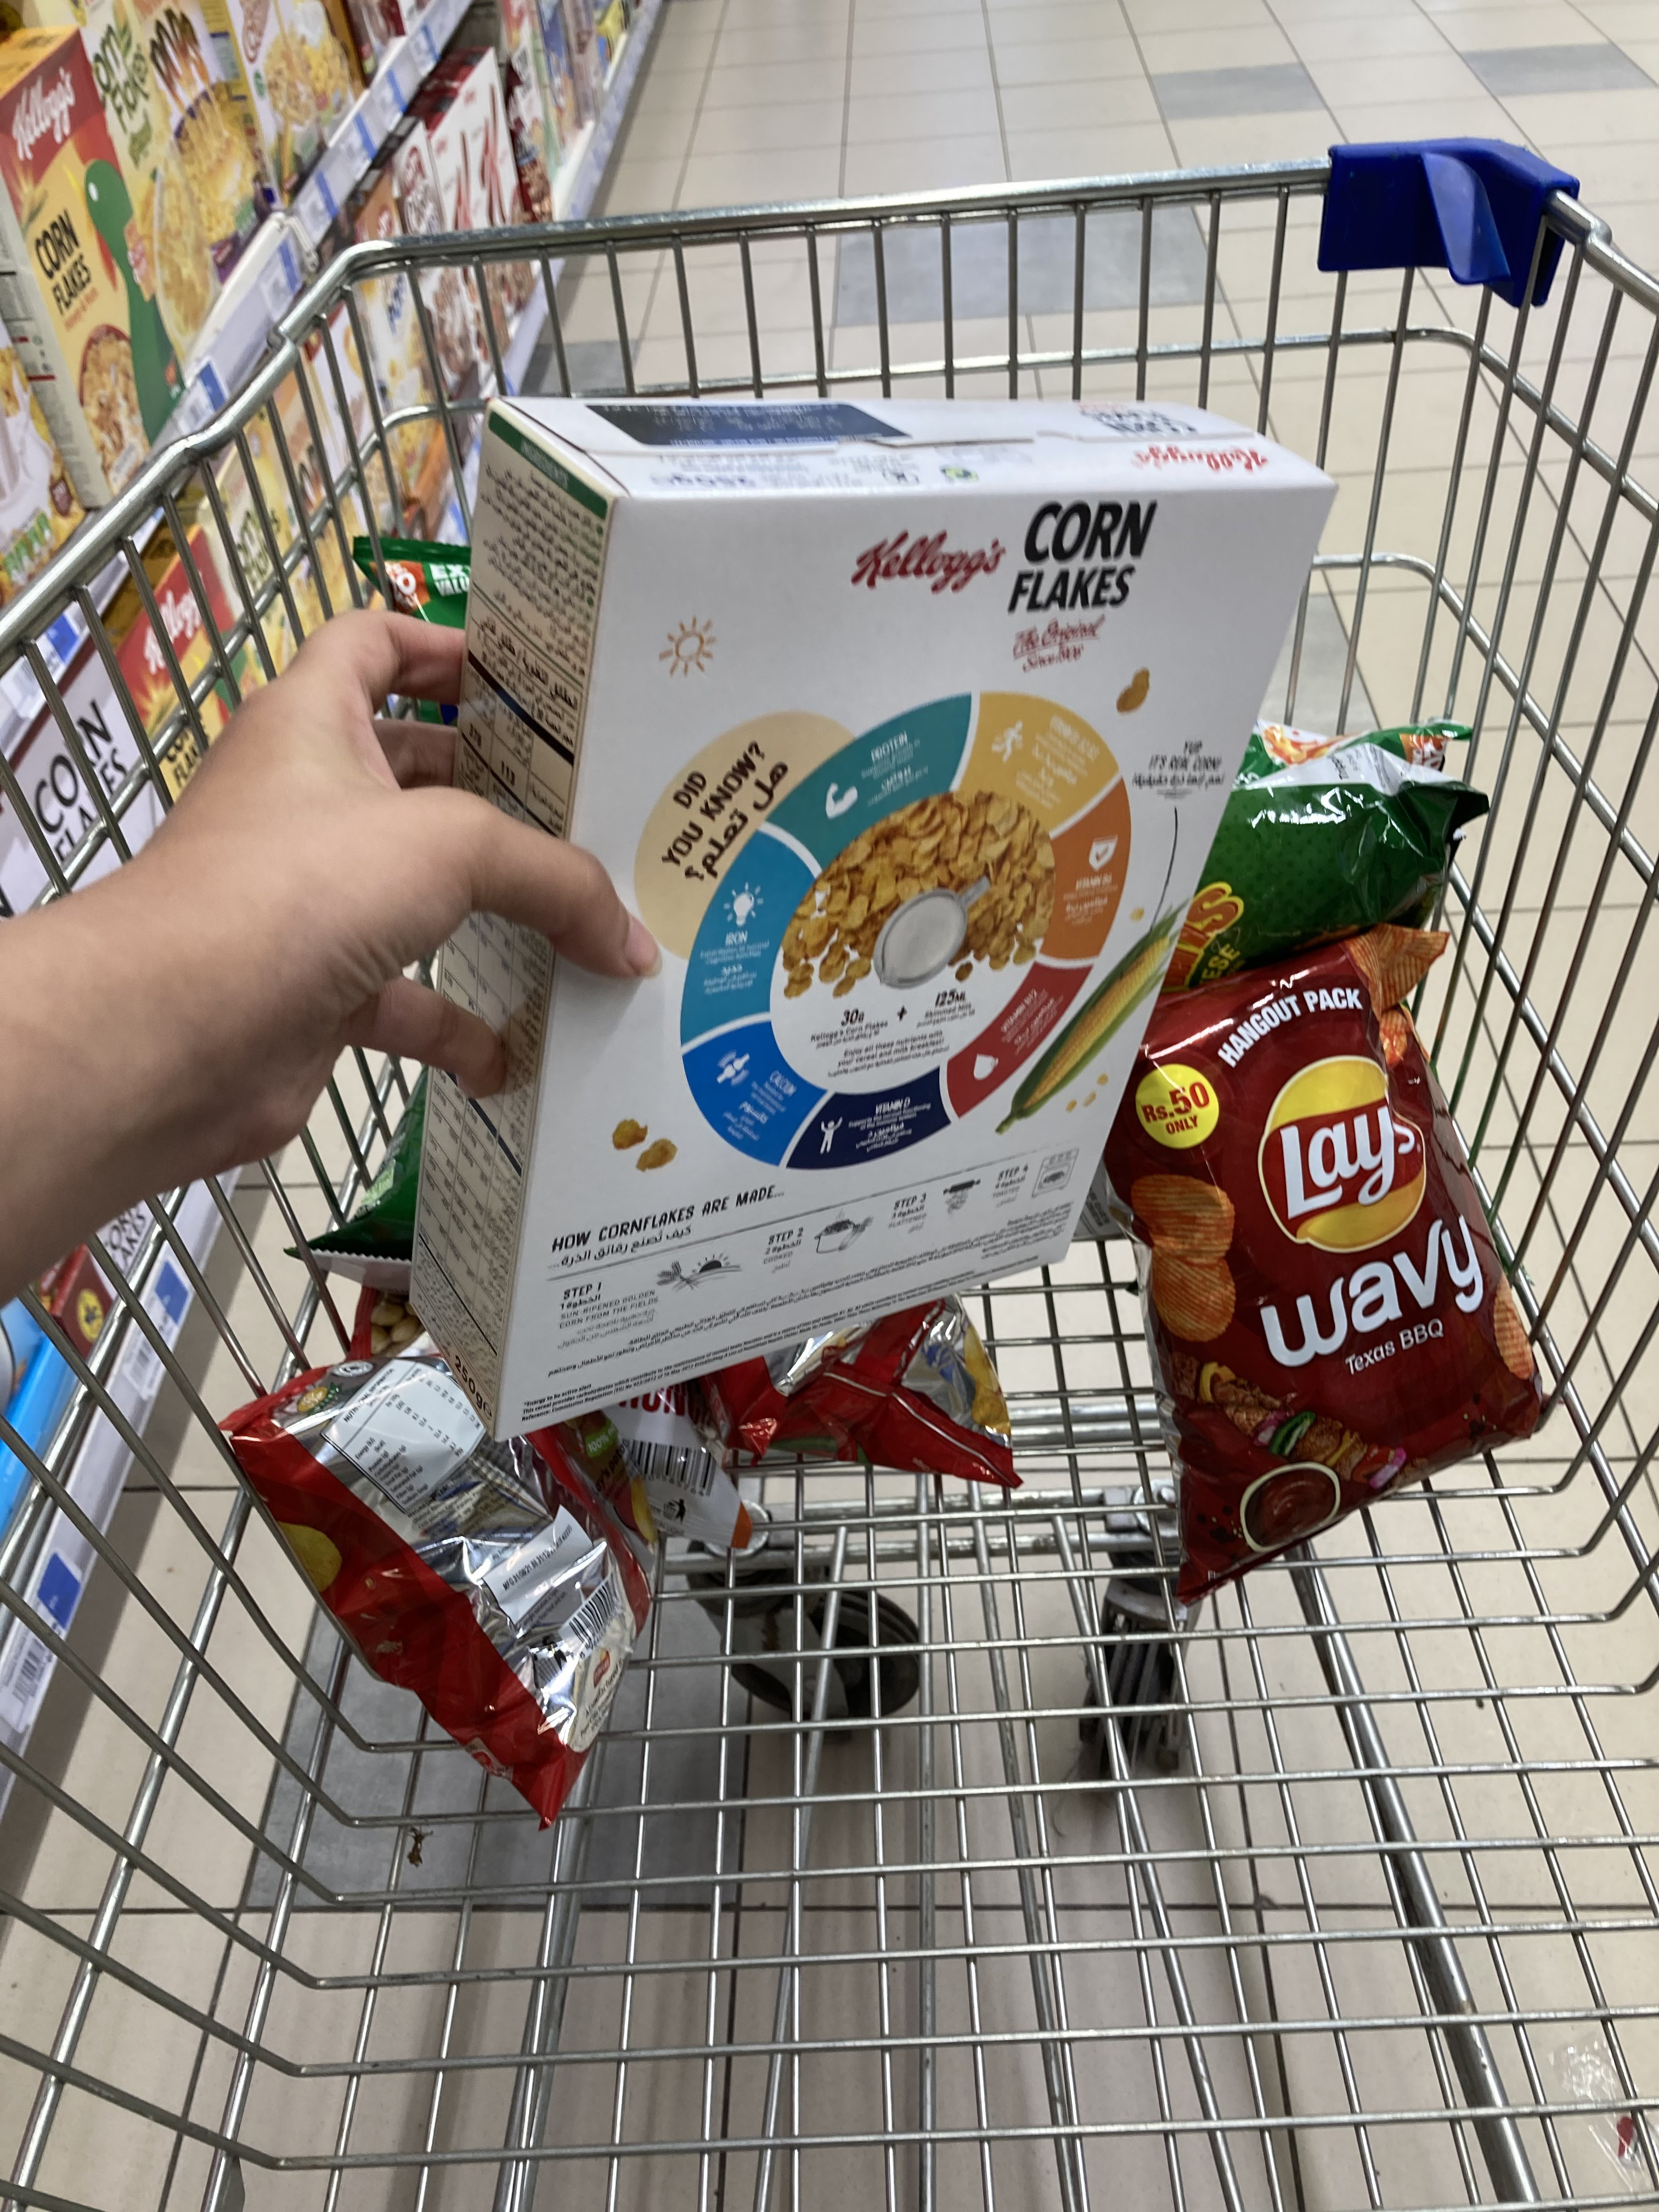Kellogg's Corn Flakes: (410, 383, 1342, 1439)
